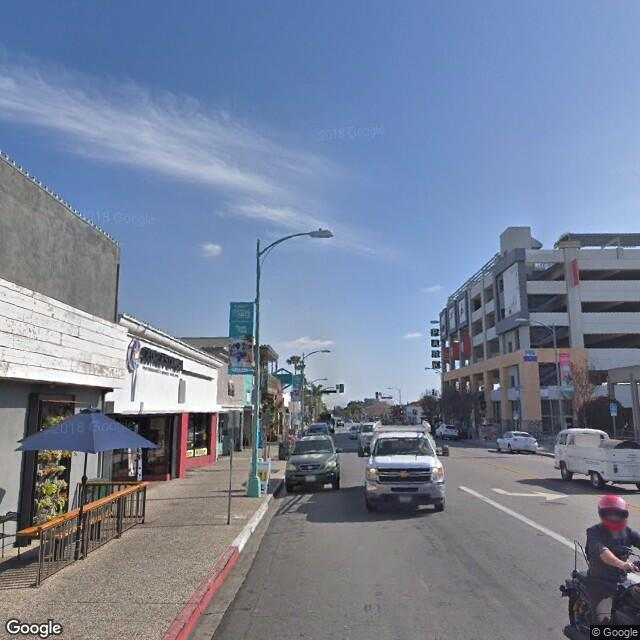road line: (471, 489, 526, 530), (305, 228, 334, 240)
